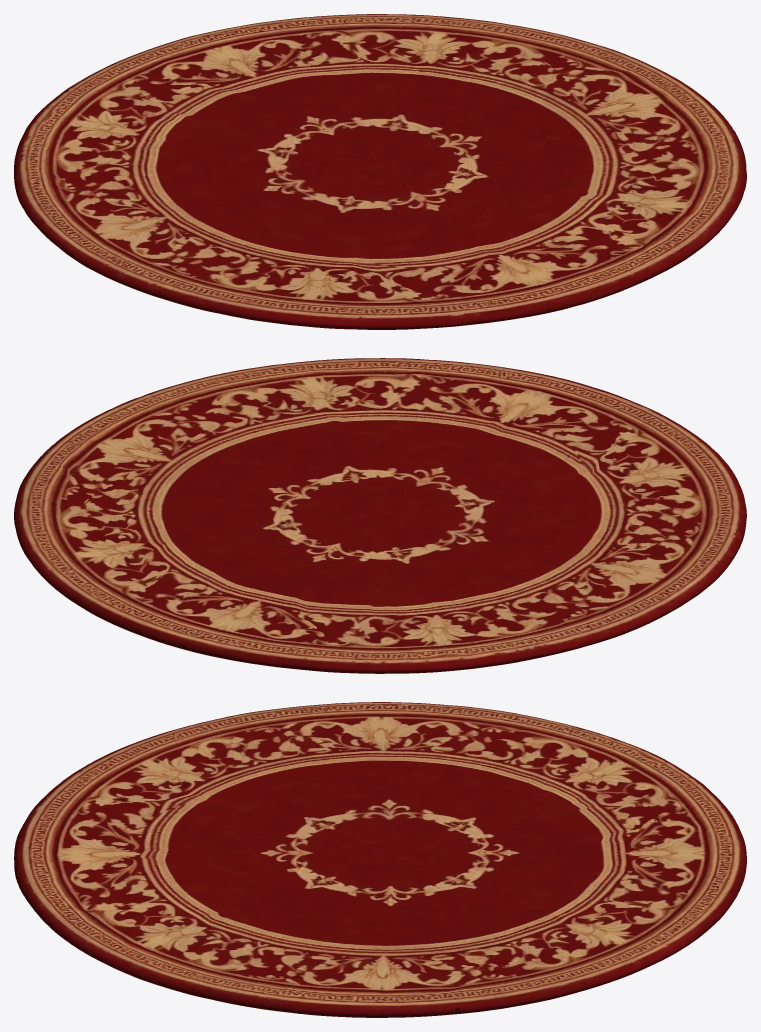
The model's file is Meshy_AI_Regal_Red_Oval_Rug_wi_0708124524_texture.glb.
3 views of the same model, one above another, from view 1: azimuth 30°, elevation 25°; view 2: azimuth 150°, elevation 25°; view 3: azimuth 270°, elevation 25° (orthographic).
Bounding box in the file's own units: 2 × 0.0464 × 2.
Materials: 1 (1 with a texture image).
